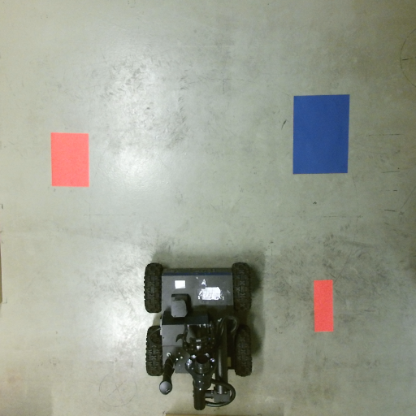Blue: (292, 93, 350, 176)
Jaguar: (140, 261, 257, 411)
Red: (49, 132, 92, 189), (310, 279, 336, 333)
